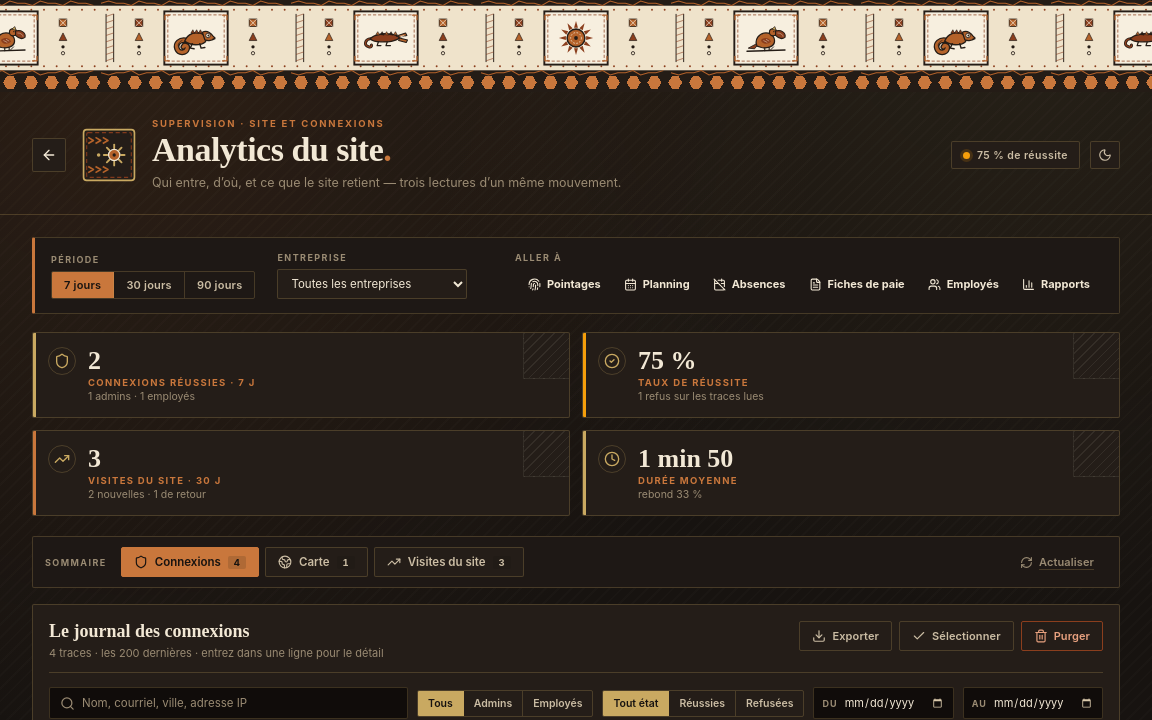
Test: 4. le journal des connexions › explique ce que la purge garde
Click the button "Purger". click: (1062, 636)
box: [1021, 621, 1103, 651]
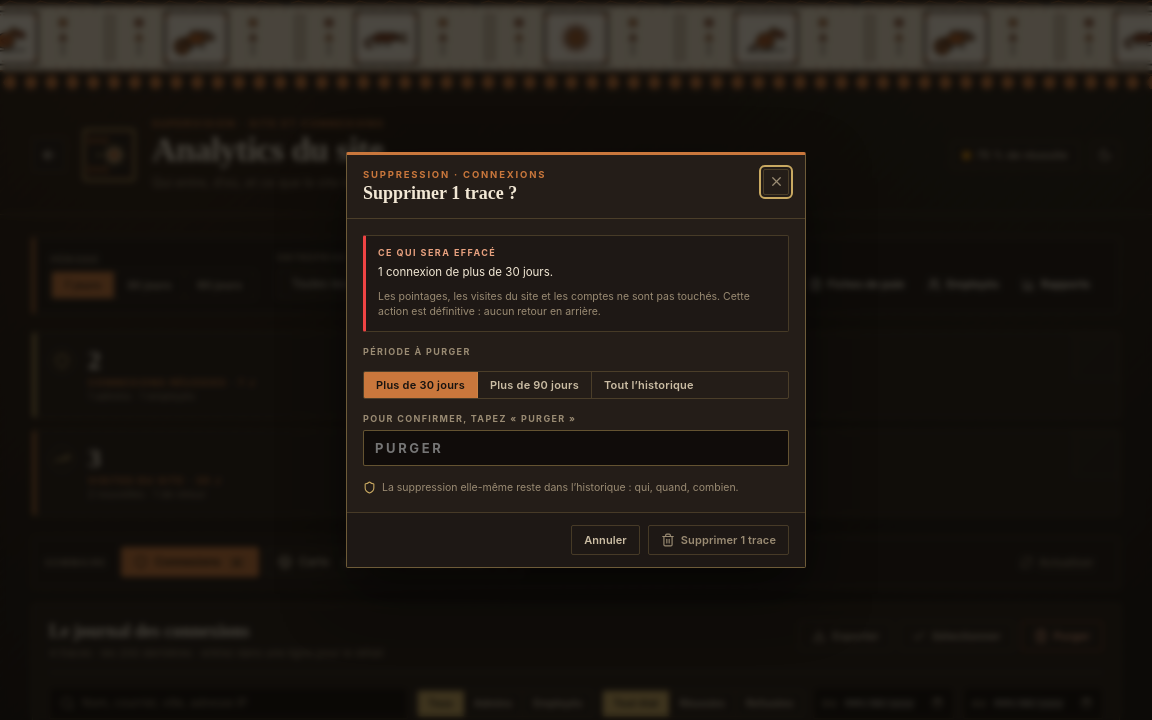
Result: the dialog with class "an-fenetre" shows "Cette action est définitive" at [378, 290, 750, 318]
Result: the dialog with class "an-fenetre" shows "reste dans l’historique" at [382, 481, 739, 494]
Result: the dialog with class "an-fenetre" shows "PURGER" at [363, 346, 471, 357]
